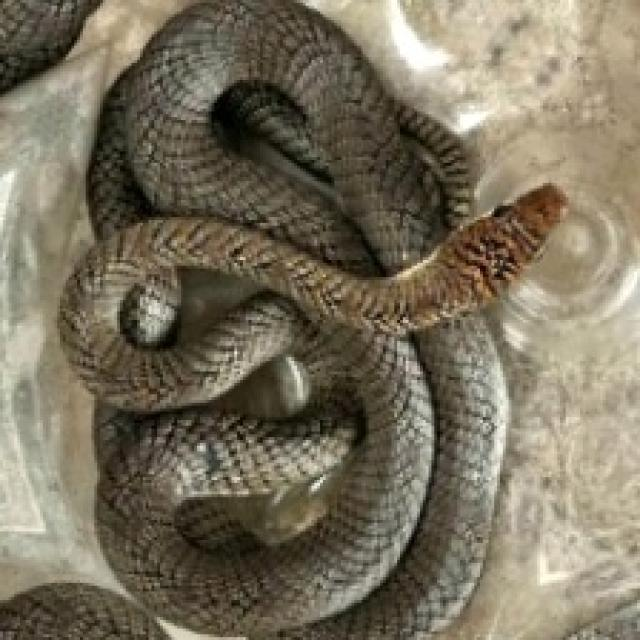paradise tree snake: (0, 0, 557, 637), (46, 237, 111, 569), (3, 586, 157, 637)
